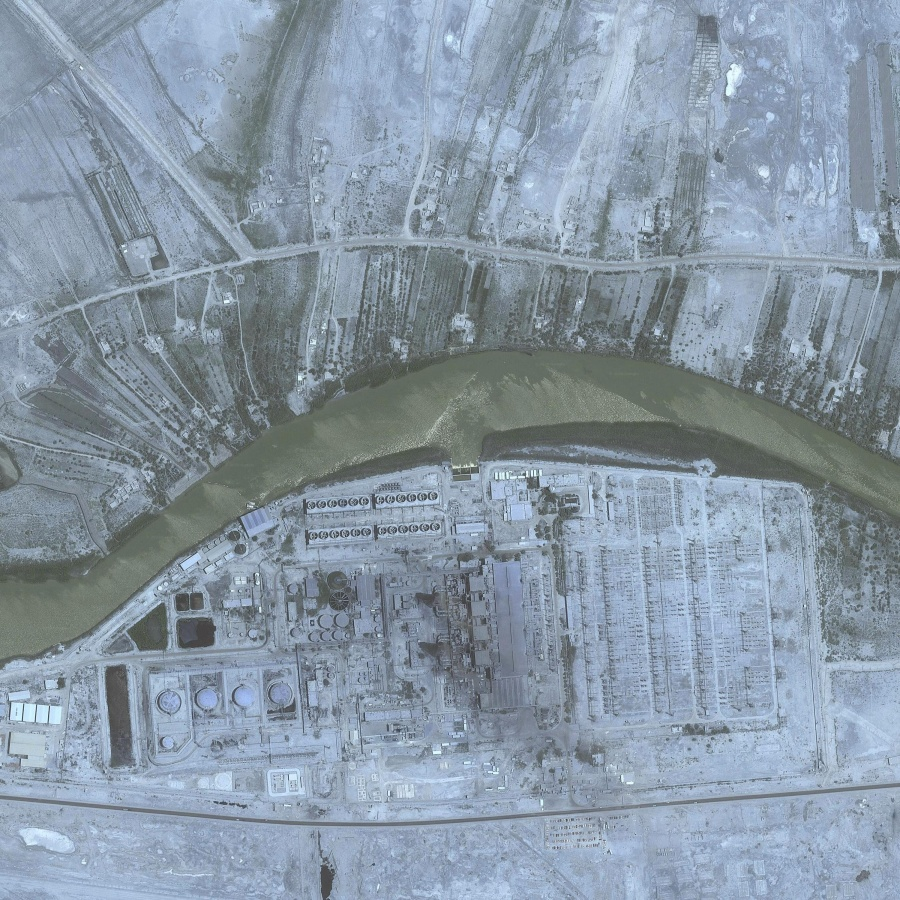PowerPlant: (82, 485, 582, 784)
